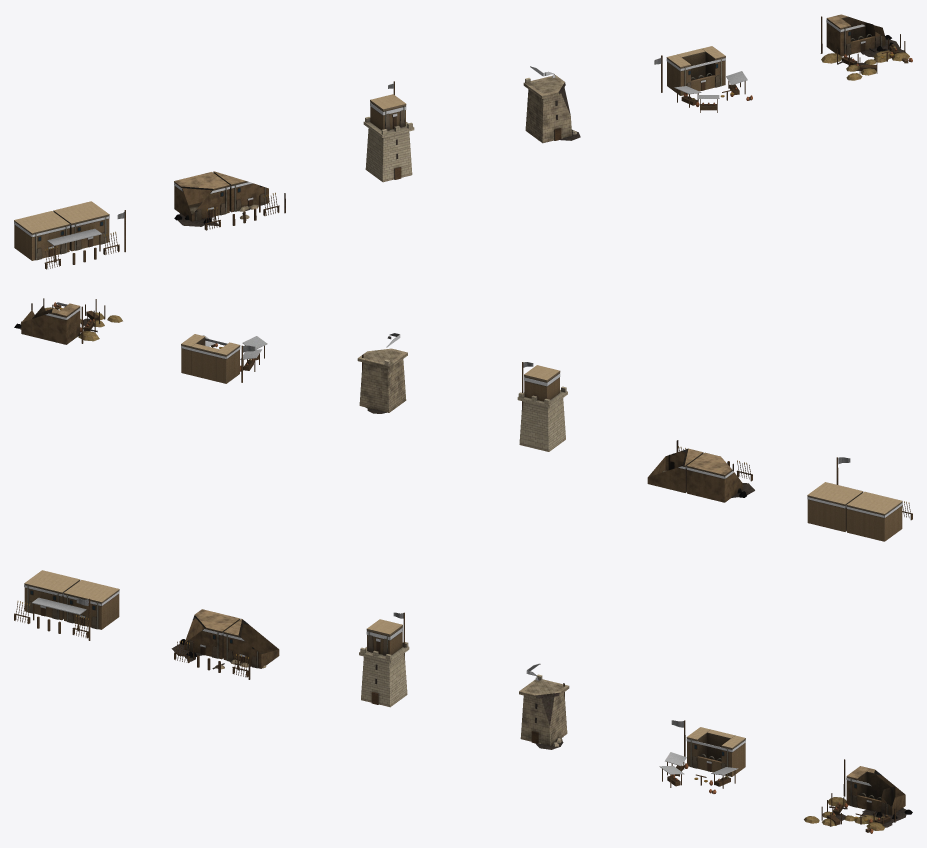
The model's file is rts-kingdoms-maghreb.glb.
3 renders of one model, top to bottom at view 1: azimuth 30°, elevation 25°; view 2: azimuth 150°, elevation 25°; view 3: azimuth 330°, elevation 25°, orthographic.
Visible parts, largest first — view 1: LOD0, LOD0.001, LOD0.002, LOD0.005, LOD0.004, LOD0.003; view 2: LOD0, LOD0.001, LOD0.002, LOD0.004, LOD0.003, LOD0.005; view 3: LOD0, LOD0.001, LOD0.005, LOD0.002, LOD0.004, LOD0.003.
Part boxes in pixels (x1,y1,x2,y2): LOD0: [14, 201, 125, 269]; LOD0.001: [174, 171, 285, 230]; LOD0.002: [363, 81, 414, 182]; LOD0.005: [820, 14, 912, 80]; LOD0.004: [654, 46, 752, 112]; LOD0.003: [523, 66, 580, 143]; LOD0: [807, 457, 912, 541]; LOD0.001: [647, 440, 754, 502]; LOD0.002: [517, 362, 567, 451]; LOD0.004: [181, 334, 267, 383]; LOD0.003: [357, 333, 407, 413]; LOD0.005: [14, 298, 122, 344]; LOD0: [14, 570, 119, 640]; LOD0.001: [171, 609, 279, 679]; LOD0.005: [804, 759, 912, 833]; LOD0.002: [359, 612, 409, 707]; LOD0.004: [659, 720, 745, 793]; LOD0.003: [519, 663, 569, 749].
Size of what is drawn, in the model's own units: 16.4 by 1.48 by 1.36.
2 materials, 2 textured.
